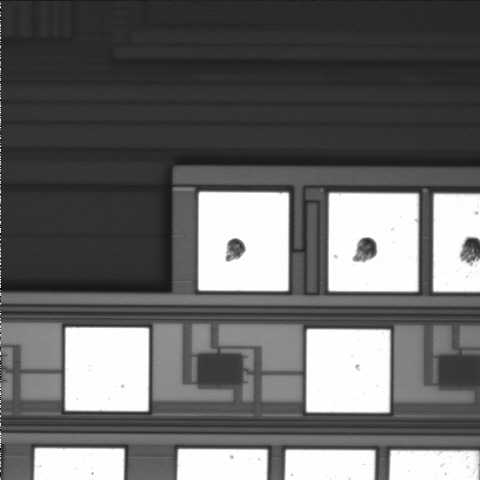pad: (198, 192, 289, 291), (329, 193, 418, 291), (65, 328, 149, 411), (307, 329, 390, 412)
